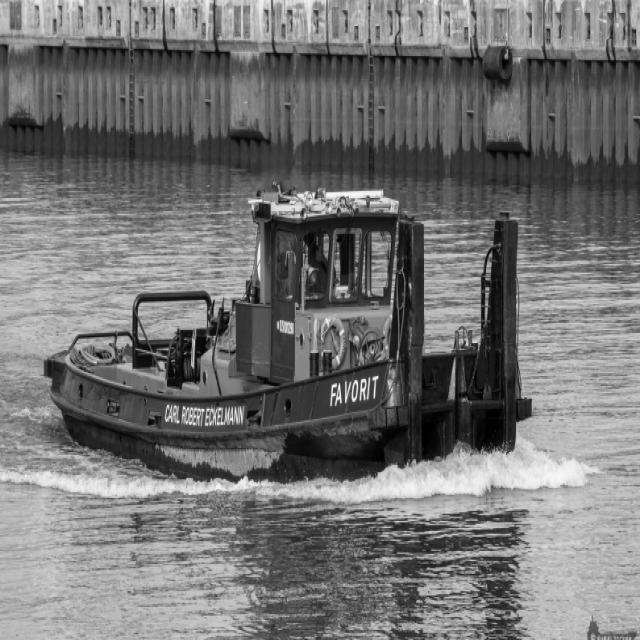tugboat: (37, 179, 539, 496)
